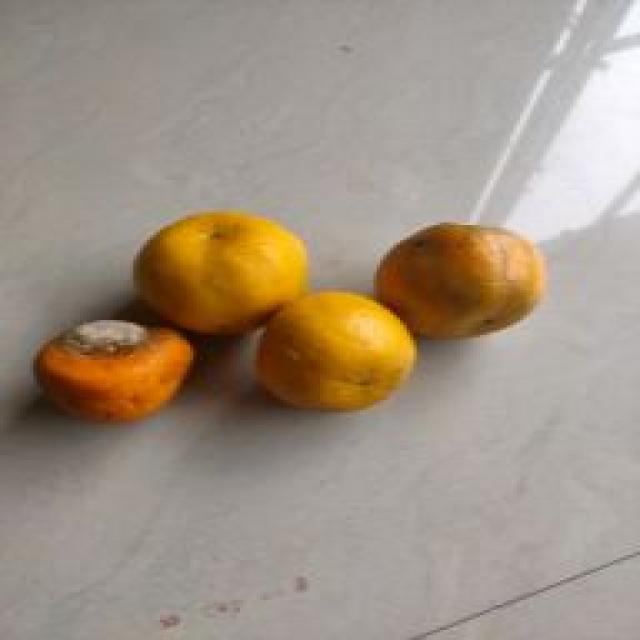Organik: (355, 198, 554, 332), (116, 202, 323, 327), (25, 312, 208, 430), (255, 282, 417, 410)
